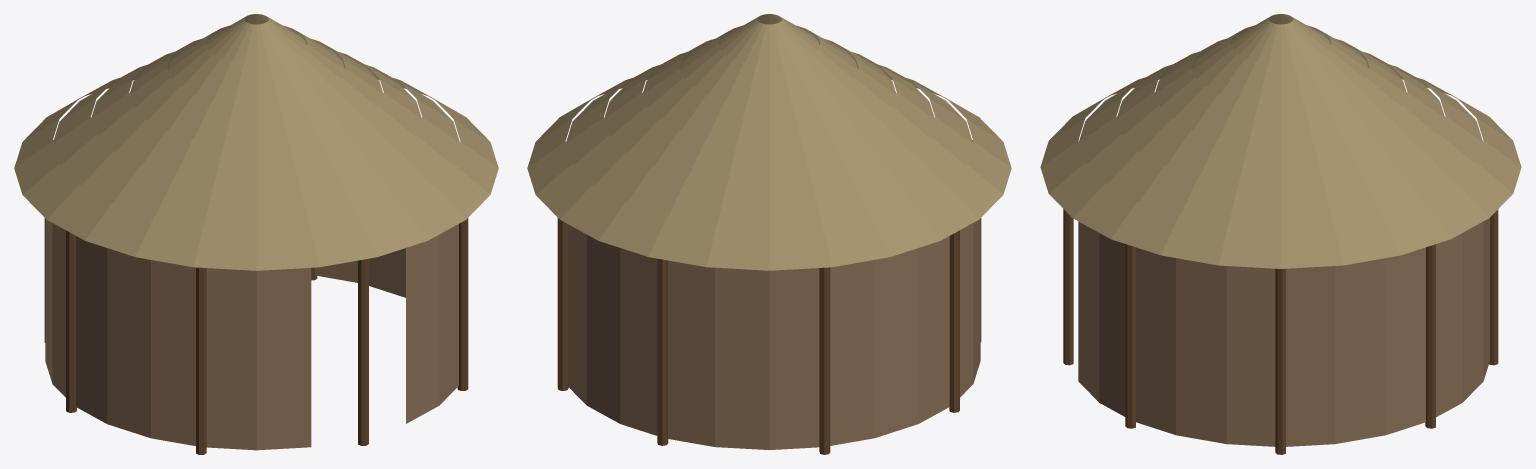
The model's file is round_household.glb.
3 views of the same model, side by side, from view 1: azimuth 30°, elevation 25°; view 2: azimuth 150°, elevation 25°; view 3: azimuth 270°, elevation 25° (orthographic).
Visible parts, largest first — view 1: round_household; view 2: round_household; view 3: round_household.
Boxes of the visible parts, bbox=[...] form: round_household: bbox=[14, 14, 498, 454]; round_household: bbox=[527, 14, 1011, 454]; round_household: bbox=[1040, 14, 1521, 454].
Size of the model in its own units: 3.9 by 3.08 by 3.9.
